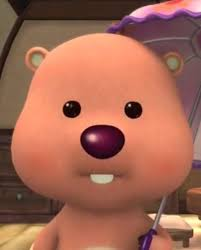Loopy: (9, 30, 193, 250)
